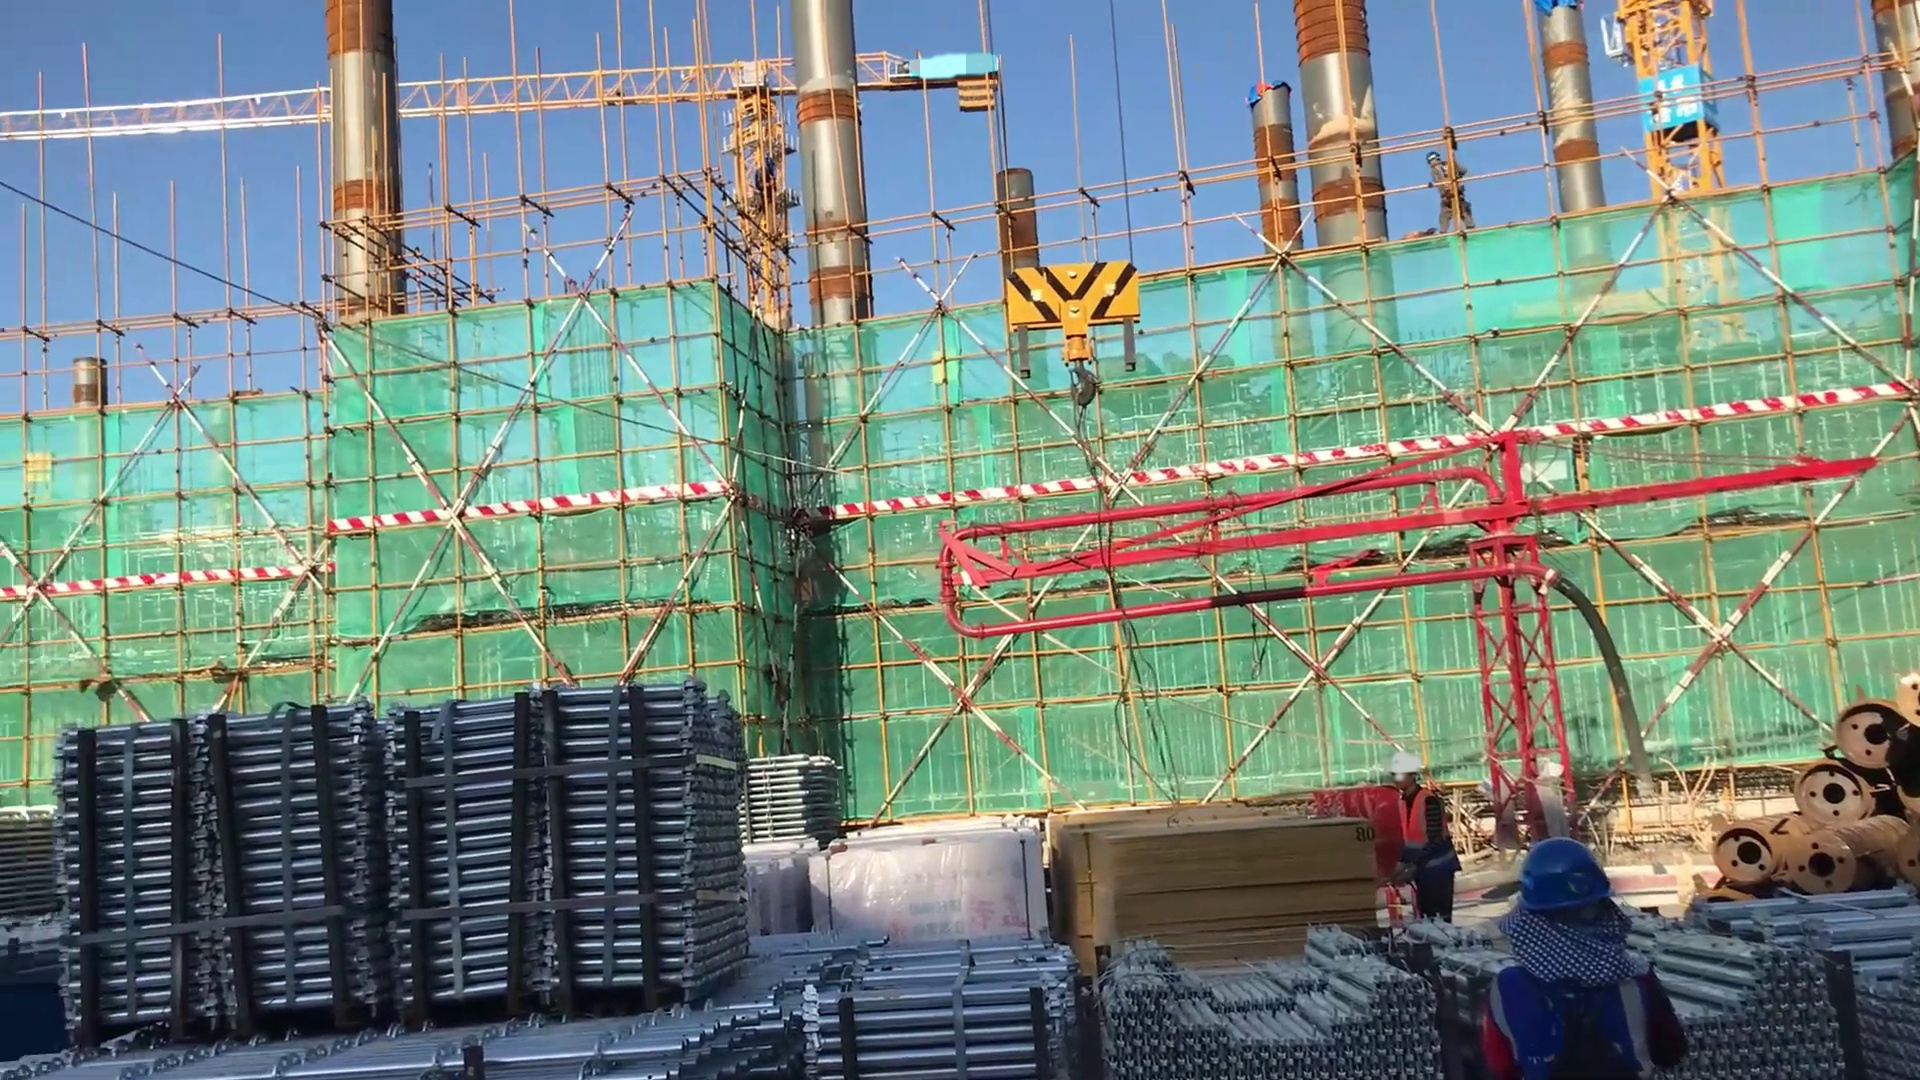board: (1052, 804, 1376, 962)
helmet: (1518, 837, 1616, 913), (1388, 745, 1433, 779), (1424, 150, 1445, 162)
hook: (1000, 248, 1147, 439)
person: (1471, 832, 1689, 1074), (1382, 750, 1470, 928), (1419, 143, 1482, 245)
scaffold: (68, 678, 741, 1028), (39, 928, 1445, 1080), (1634, 902, 1907, 1071), (1, 798, 80, 1016), (708, 755, 868, 846)
slogan: (1641, 61, 1712, 135)
vest: (1484, 962, 1658, 1077), (1390, 782, 1459, 879)
